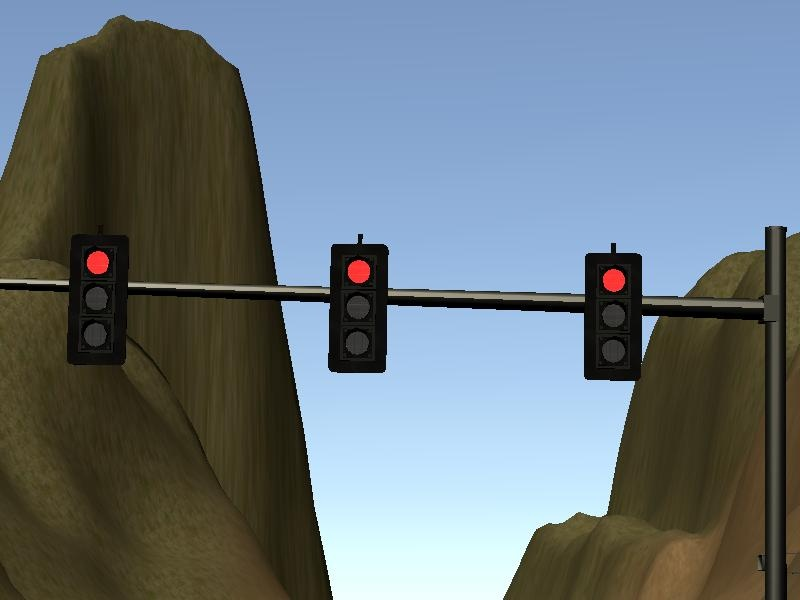RED: (68, 235, 126, 364), (327, 244, 385, 373), (582, 254, 640, 383)
